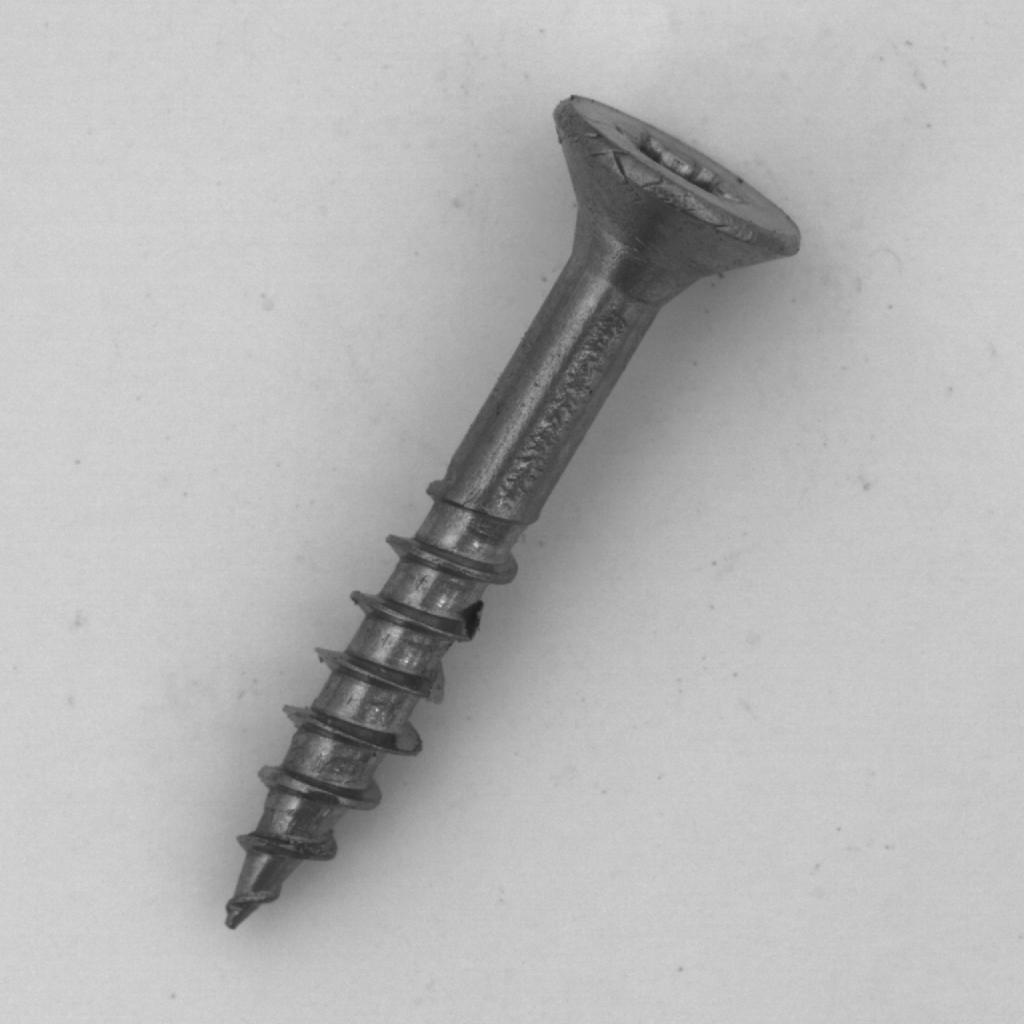bad: (205, 79, 834, 943)
